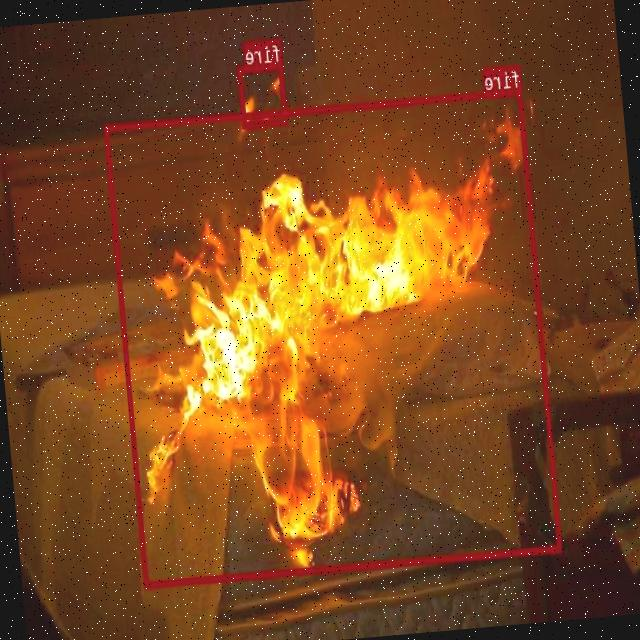fire: (105, 87, 562, 586), (238, 61, 288, 126)
